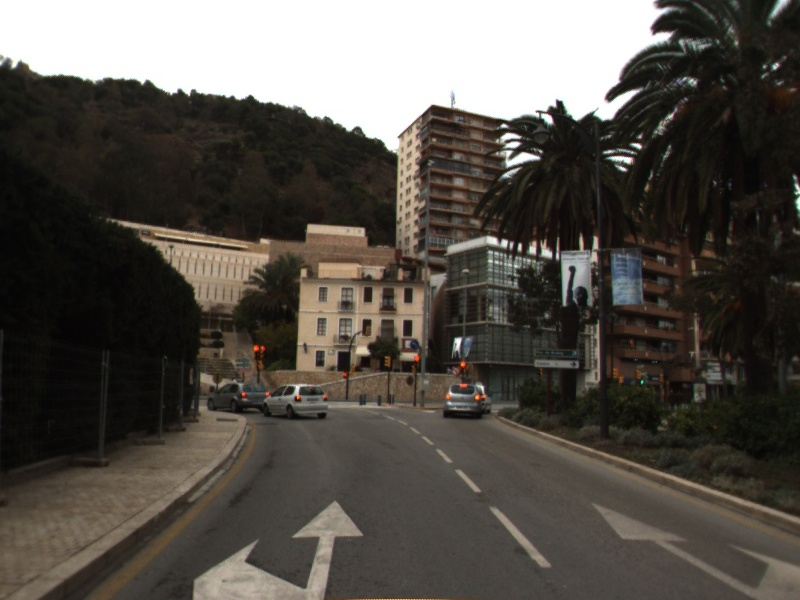STRAIGHT_LEFT: (191, 498, 366, 600)
STRAIGHT_RIGHT: (589, 501, 800, 600)
